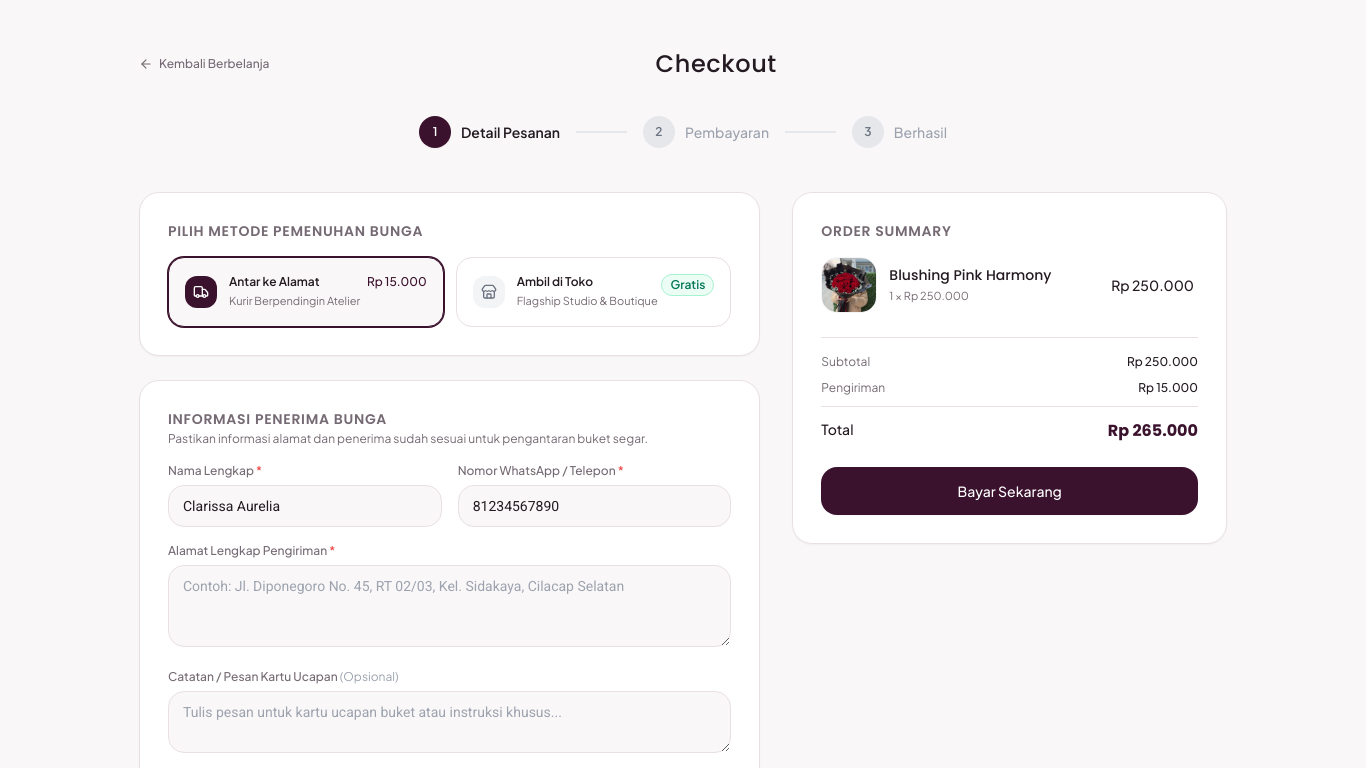
Test: CheckoutPage Component › dapat beralih antara mode Antar ke Alamat dan Ambil di Toko
Expected: the heading "Informasi Penerima Bunga" is shown, [168,409,387,429]
Klik Ambil di Toko
Click the text "Ambil di Toko". click: (555, 282)
box: [517,274,593,289]
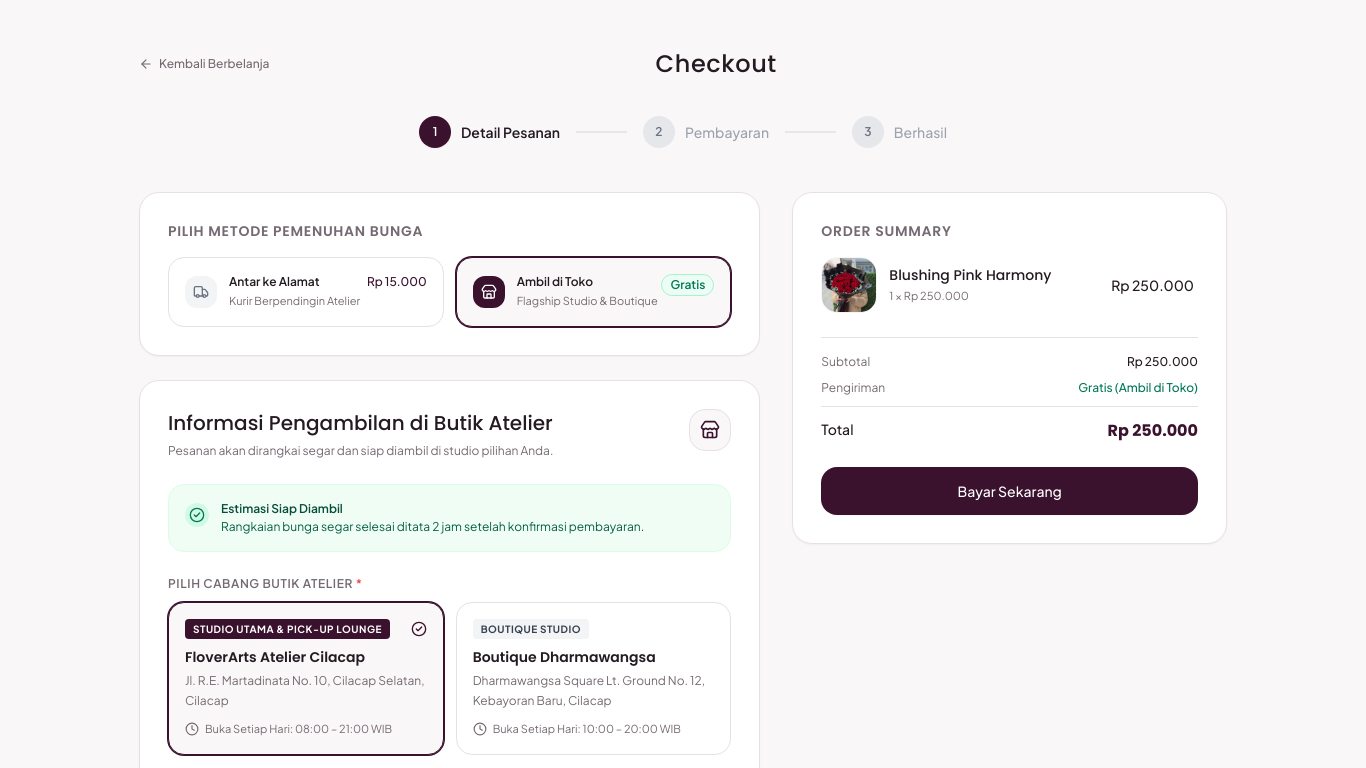
Result: the text "FloverArts Atelier Cilacap" is shown at [185,647,365,667]
